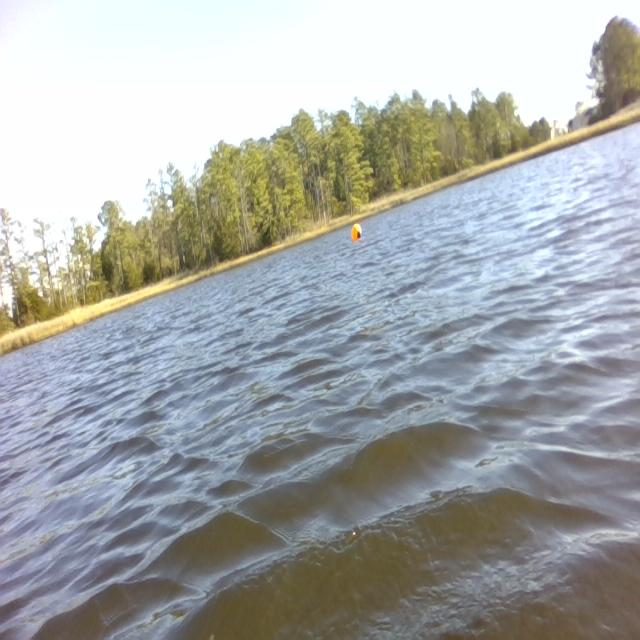Buoy: (346, 214, 366, 248)
